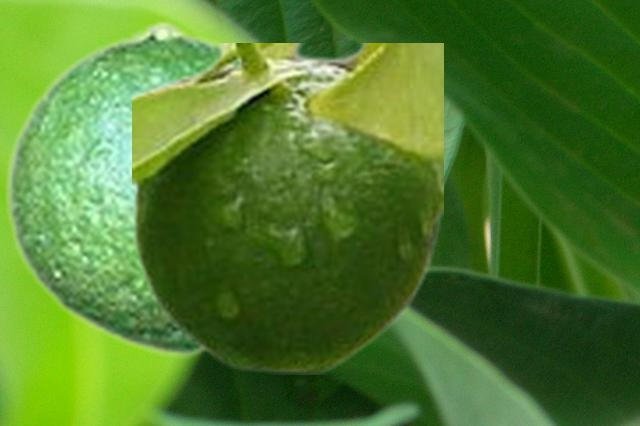dalandan: (132, 43, 442, 373), (2, 19, 229, 357)
